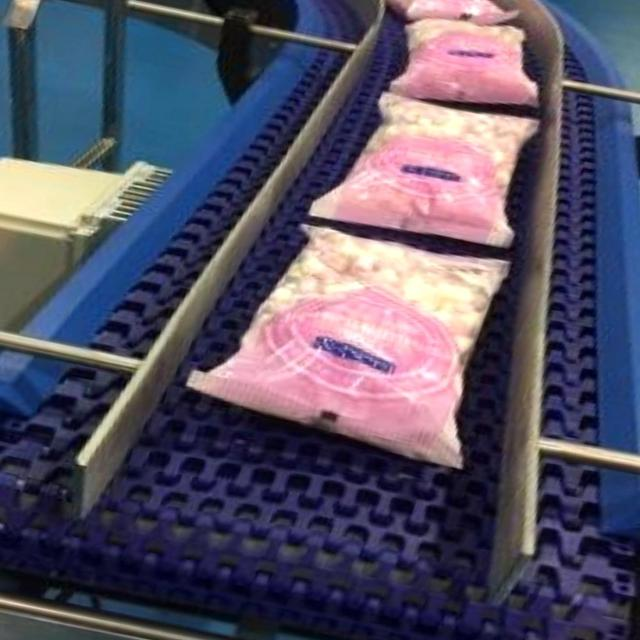food: (183, 222, 514, 471), (305, 91, 542, 250), (386, 16, 542, 111)
